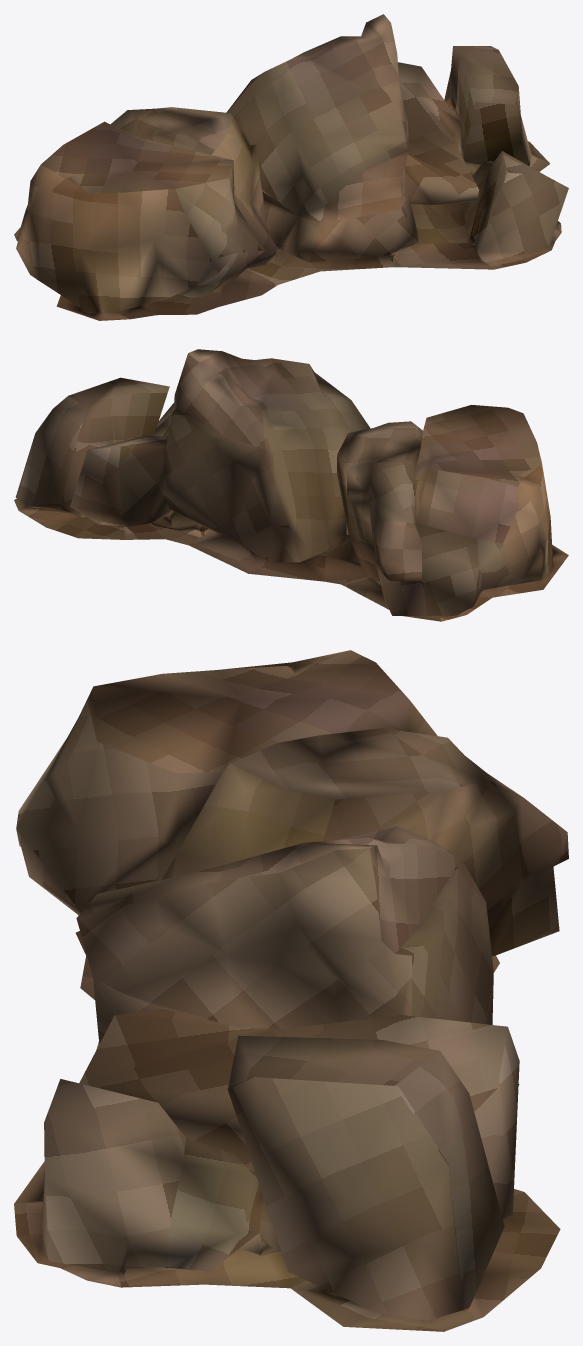
The model's file is namaqualand_boulder_02_lod2.glb.
The picture shows the model from 3 angles, top to bottom: view 1: azimuth 30°, elevation 25°; view 2: azimuth 150°, elevation 25°; view 3: azimuth 270°, elevation 25°; orthographic projection. The views are drawn at different scales.
Parts seen in each view (by area): view 1: boulder_02; view 2: boulder_02; view 3: boulder_02.
Boxes of the visible parts, bbox=[...] form: boulder_02: bbox=[14, 14, 568, 320]; boulder_02: bbox=[14, 349, 568, 621]; boulder_02: bbox=[14, 650, 568, 1331].
Size of the model in its own units: 2.51 by 0.8562 by 1.23.
1 material, 1 textured.
